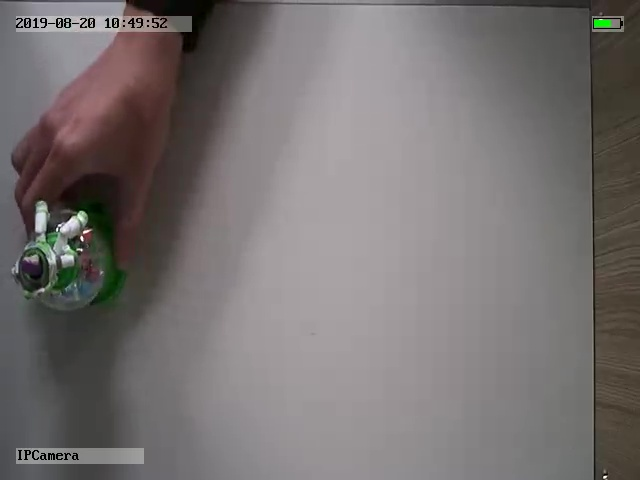buzz: (11, 199, 128, 313)
